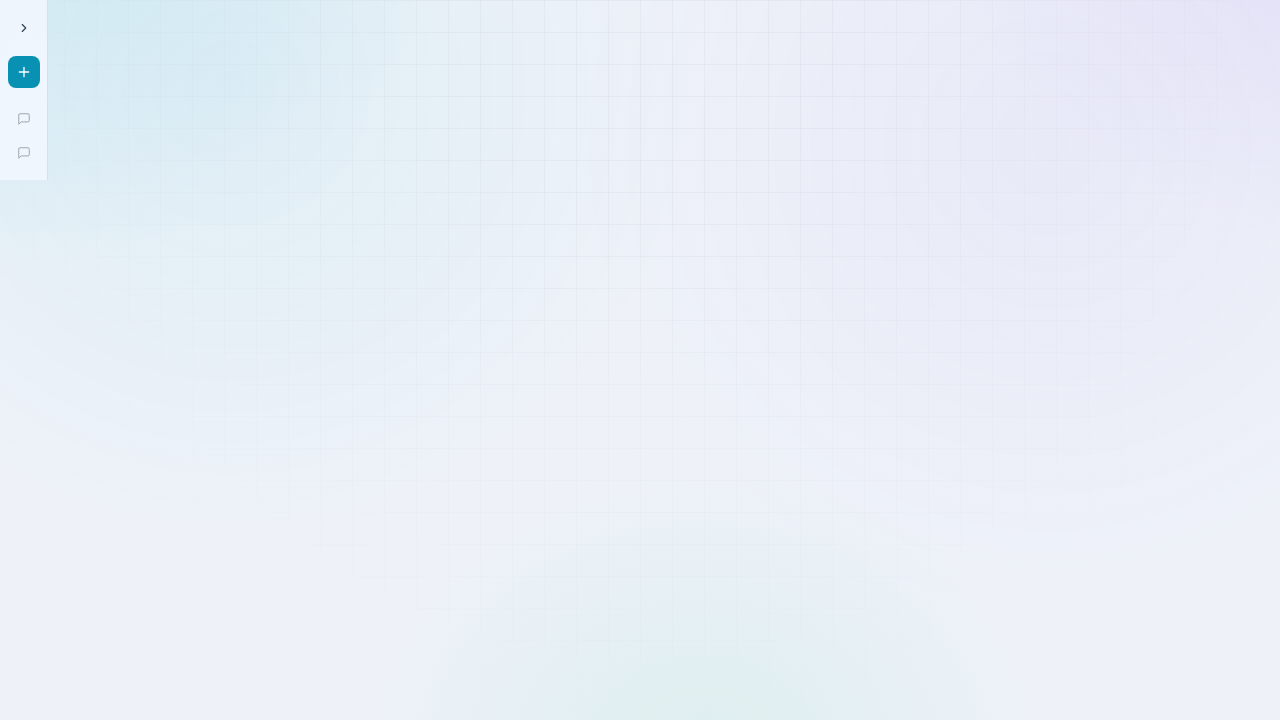
Scenario: ConversationSidebar › renders conversation titles when expanded
Click the button titled "Expand sidebar" at (24, 28), box [8, 12, 40, 44]
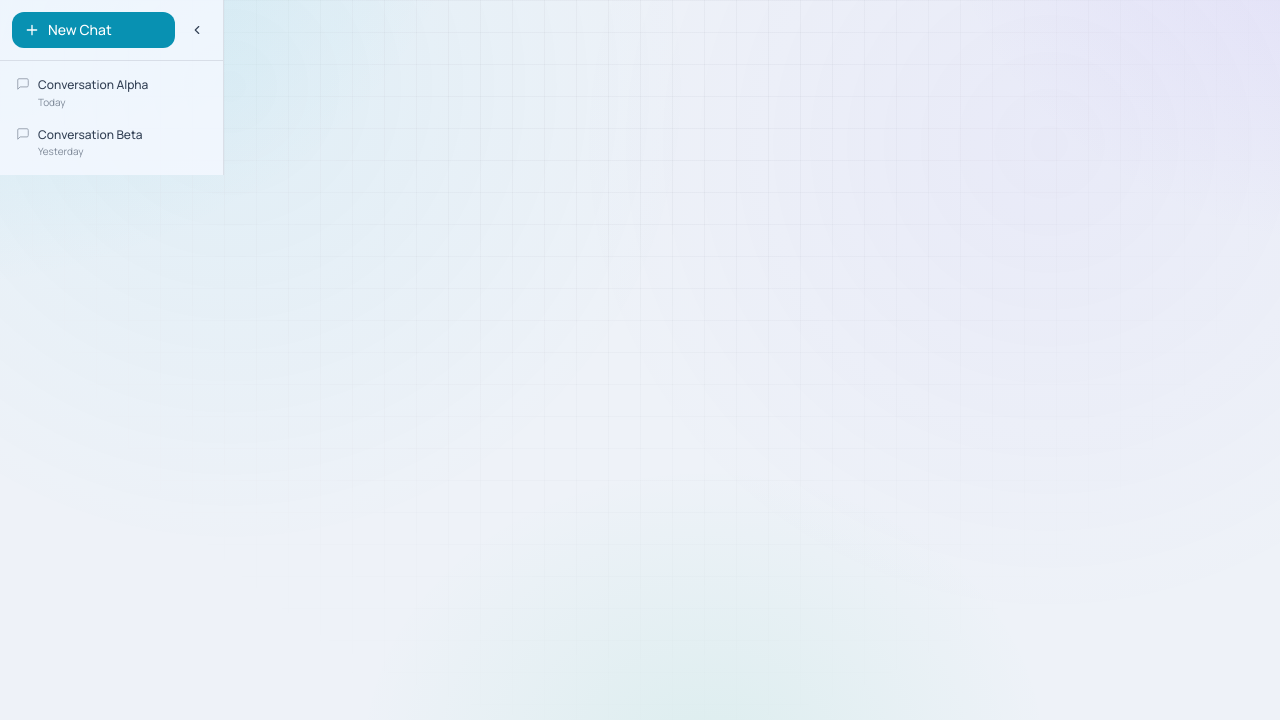
Expected: the text "Conversation Alpha" is shown, [38, 76, 148, 93]
Expected: the text "Conversation Beta" is shown, [38, 126, 143, 143]
